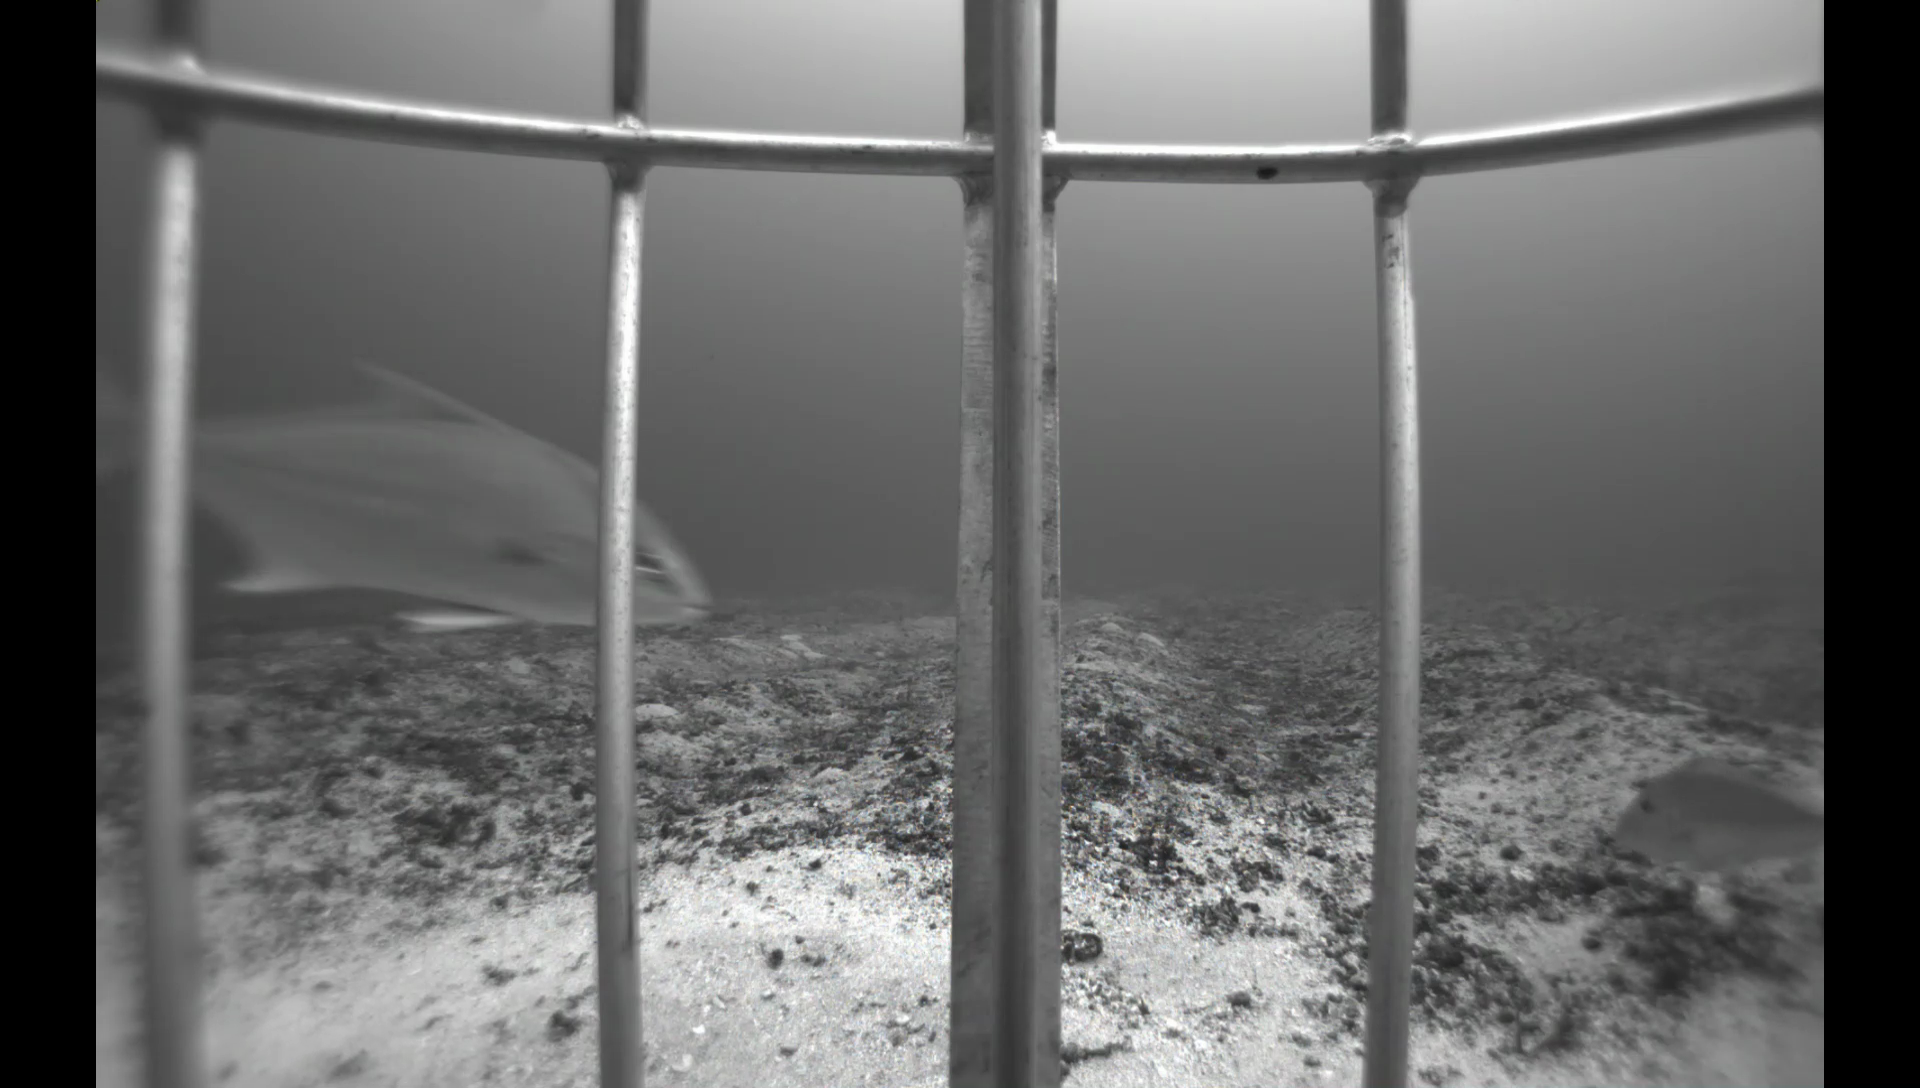CALAMUSPRORIDENS-170210605: (1597, 739, 1822, 882)
SERIOLARIVOLIANA-170113105: (92, 342, 731, 659)
